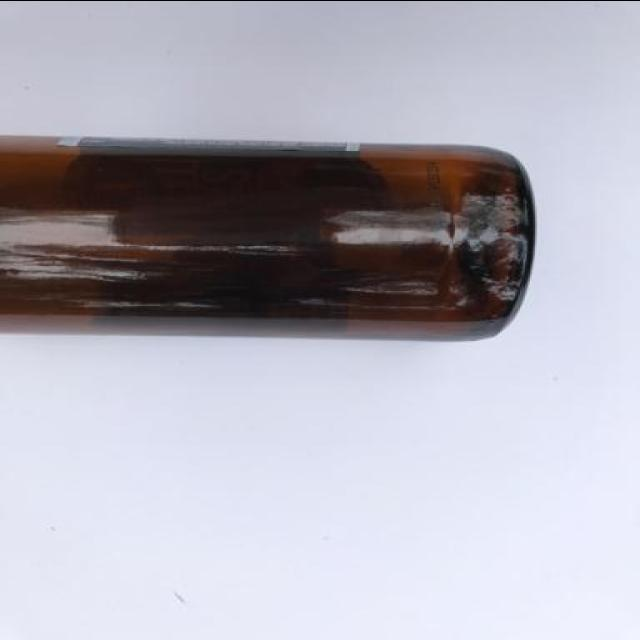glass: (1, 122, 556, 354)
